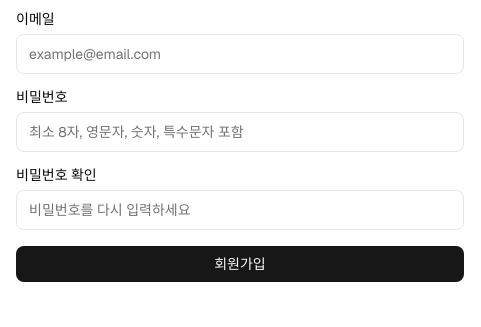
Test: SignUpForm › 잘못된 이메일 형식에 대해 실시간 유효성 검사를 표시한다
This screenshot has width=481, height=327.
Type "invalid-email" into the field labelled "이메일" at point(240, 54), box top-left (16, 34), bottom-right (464, 74)
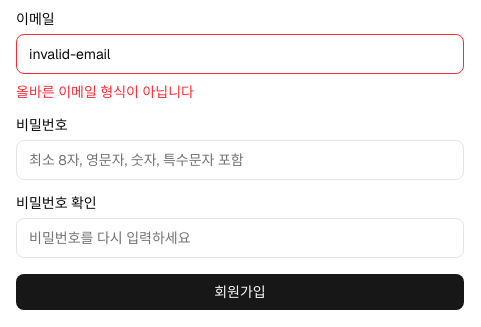
Expected: the text "올바른 이메일 형식이 아닙니다" is shown, top-left (16, 83), bottom-right (194, 101)
